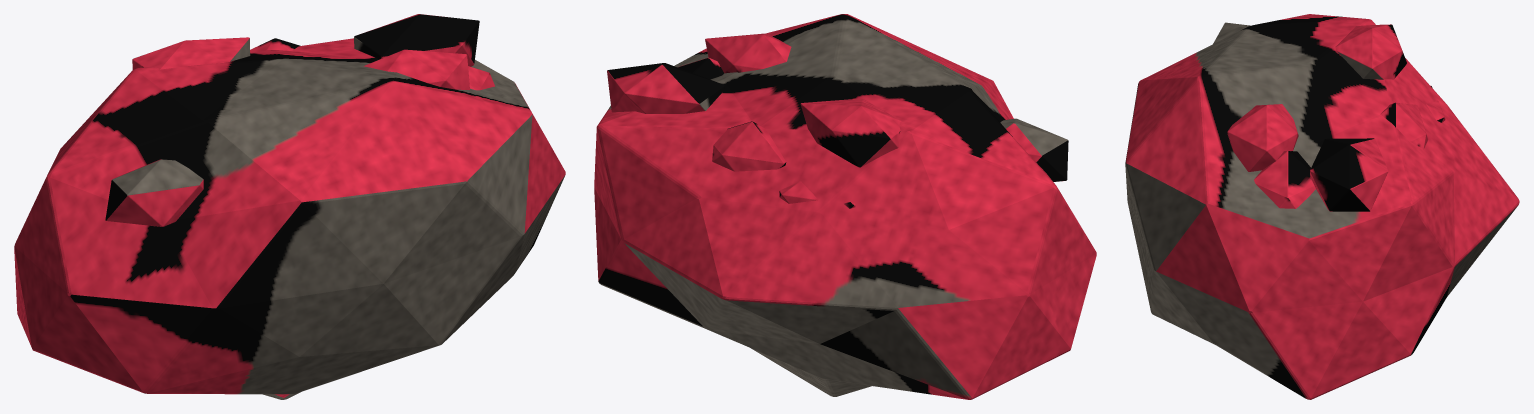
The model's file is Iron.fbx.
3 renders of one model, left to right at view 1: azimuth 30°, elevation 25°; view 2: azimuth 150°, elevation 25°; view 3: azimuth 270°, elevation 25°, orthographic. The views are drawn at different scales.
Parts seen in each view (by area): view 1: SDT_Mineral_Iron; view 2: SDT_Mineral_Iron; view 3: SDT_Mineral_Iron.
Part boxes in pixels (bbox=[...]): SDT_Mineral_Iron: bbox=[14, 14, 565, 399]; SDT_Mineral_Iron: bbox=[594, 14, 1096, 399]; SDT_Mineral_Iron: bbox=[1125, 14, 1519, 399].
Size of the model in its own units: 60 by 40 by 45.
